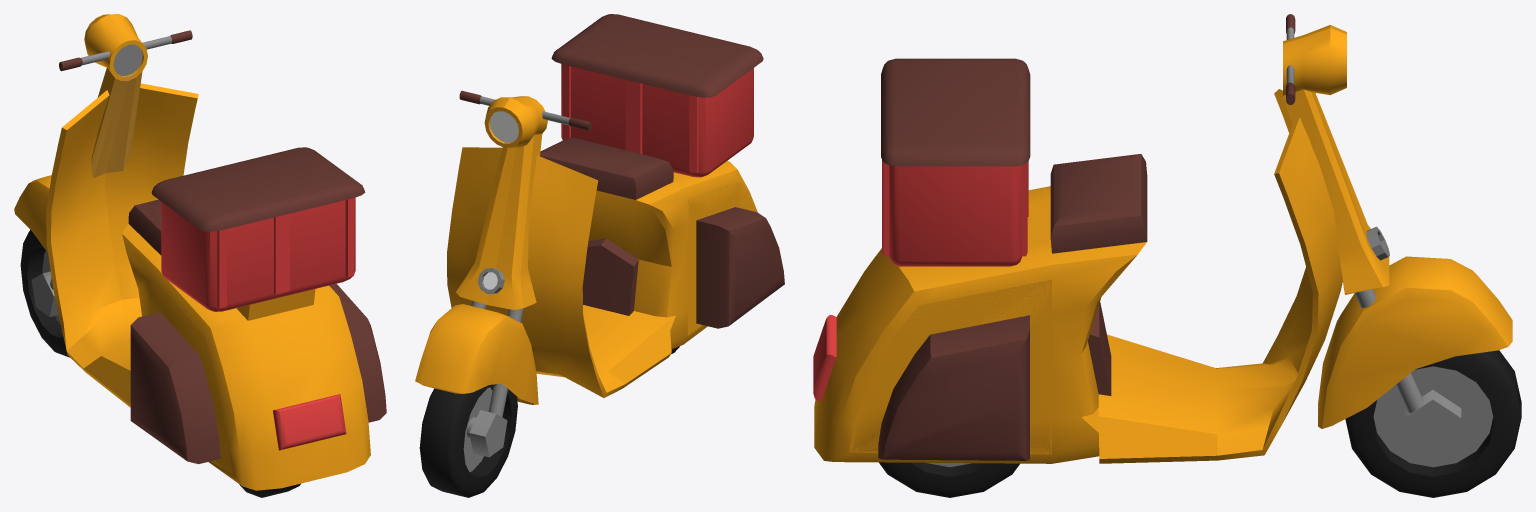
File: scooter.glb
The picture shows the model from 3 angles, left to right: view 1: azimuth 30°, elevation 25°; view 2: azimuth 150°, elevation 25°; view 3: azimuth 270°, elevation 25°; orthographic projection. The views are drawn at different scales.
Visible parts, largest first — view 1: Object_4, Object_6; view 2: Object_4, Object_6; view 3: Object_4, Object_6.
Boxes of the visible parts, bbox=[...] form: Object_4: bbox=[46, 14, 386, 490]; Object_6: bbox=[14, 175, 300, 497]; Object_4: bbox=[447, 14, 784, 397]; Object_6: bbox=[415, 268, 679, 497]; Object_4: bbox=[813, 14, 1389, 463]; Object_6: bbox=[879, 226, 1521, 497].
Size of the model in its own units: 1.39 by 2.35 by 3.27.
2 materials, 2 textured.
